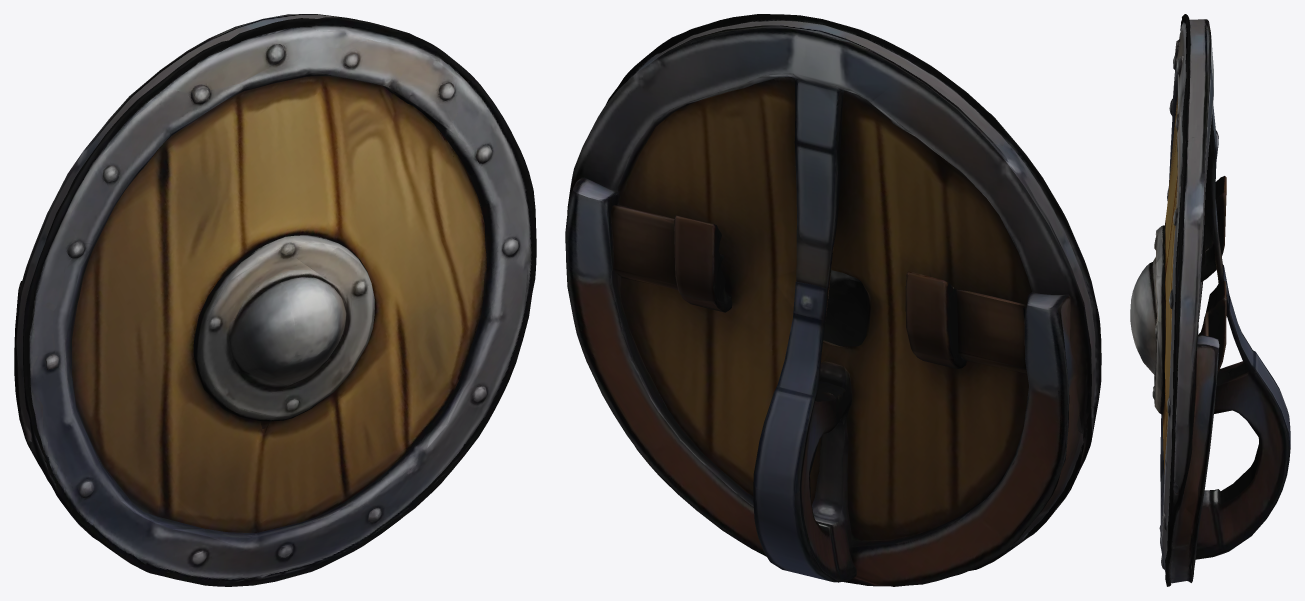
Rendered from wooden_shield.glb.
3 views of the same model, side by side, from view 1: azimuth 30°, elevation 25°; view 2: azimuth 150°, elevation 25°; view 3: azimuth 270°, elevation 25° (orthographic). The views are drawn at different scales.
Parts seen in each view (by area): view 1: world; view 2: world; view 3: world.
Part boxes in pixels (x1=…): world: x1=14, y1=14, x2=536, y2=586; world: x1=565, y1=14, x2=1101, y2=586; world: x1=1130, y1=14, x2=1290, y2=586.
Bounding box in the file's own units: 0.6996 × 0.7127 × 0.1984.
1 material, 1 textured.
